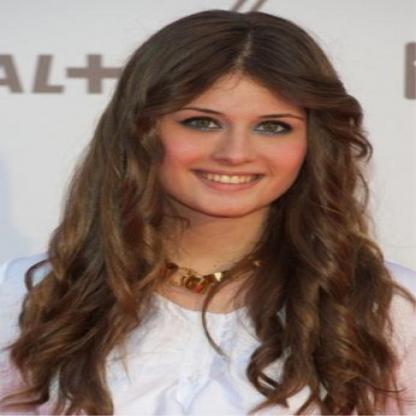long-hair: (28, 218, 399, 268)
